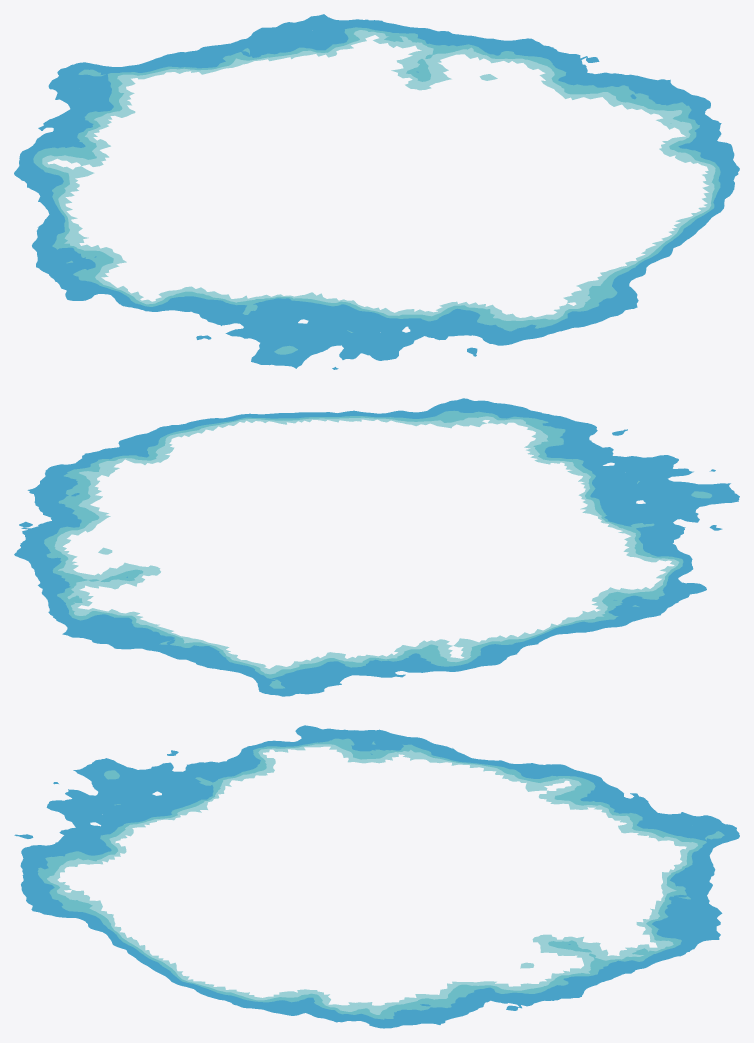
File: Isl-flat1-Water.fbx
The picture shows the model from 3 angles, top to bottom: view 1: azimuth 30°, elevation 25°; view 2: azimuth 150°, elevation 25°; view 3: azimuth 270°, elevation 25°; orthographic projection. The views are drawn at different scales.
Parts seen in each view (by area): view 1: Isl-flat1-Water; view 2: Isl-flat1-Water; view 3: Isl-flat1-Water.
Boxes of the visible parts, box(x1,y1,x2,y2) form: Isl-flat1-Water: box(14, 14, 739, 369); Isl-flat1-Water: box(14, 398, 739, 696); Isl-flat1-Water: box(14, 725, 739, 1028).
Bounding box in the file's own units: 116 × 0 × 118.
